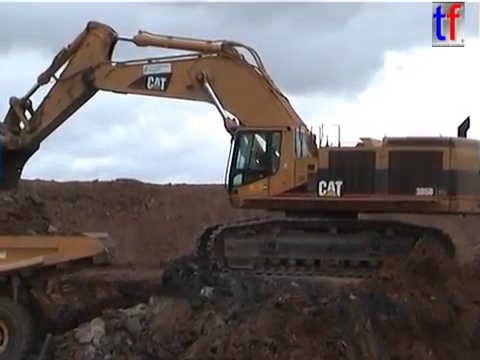excavator: (1, 18, 480, 282)
truck: (1, 227, 113, 360)
